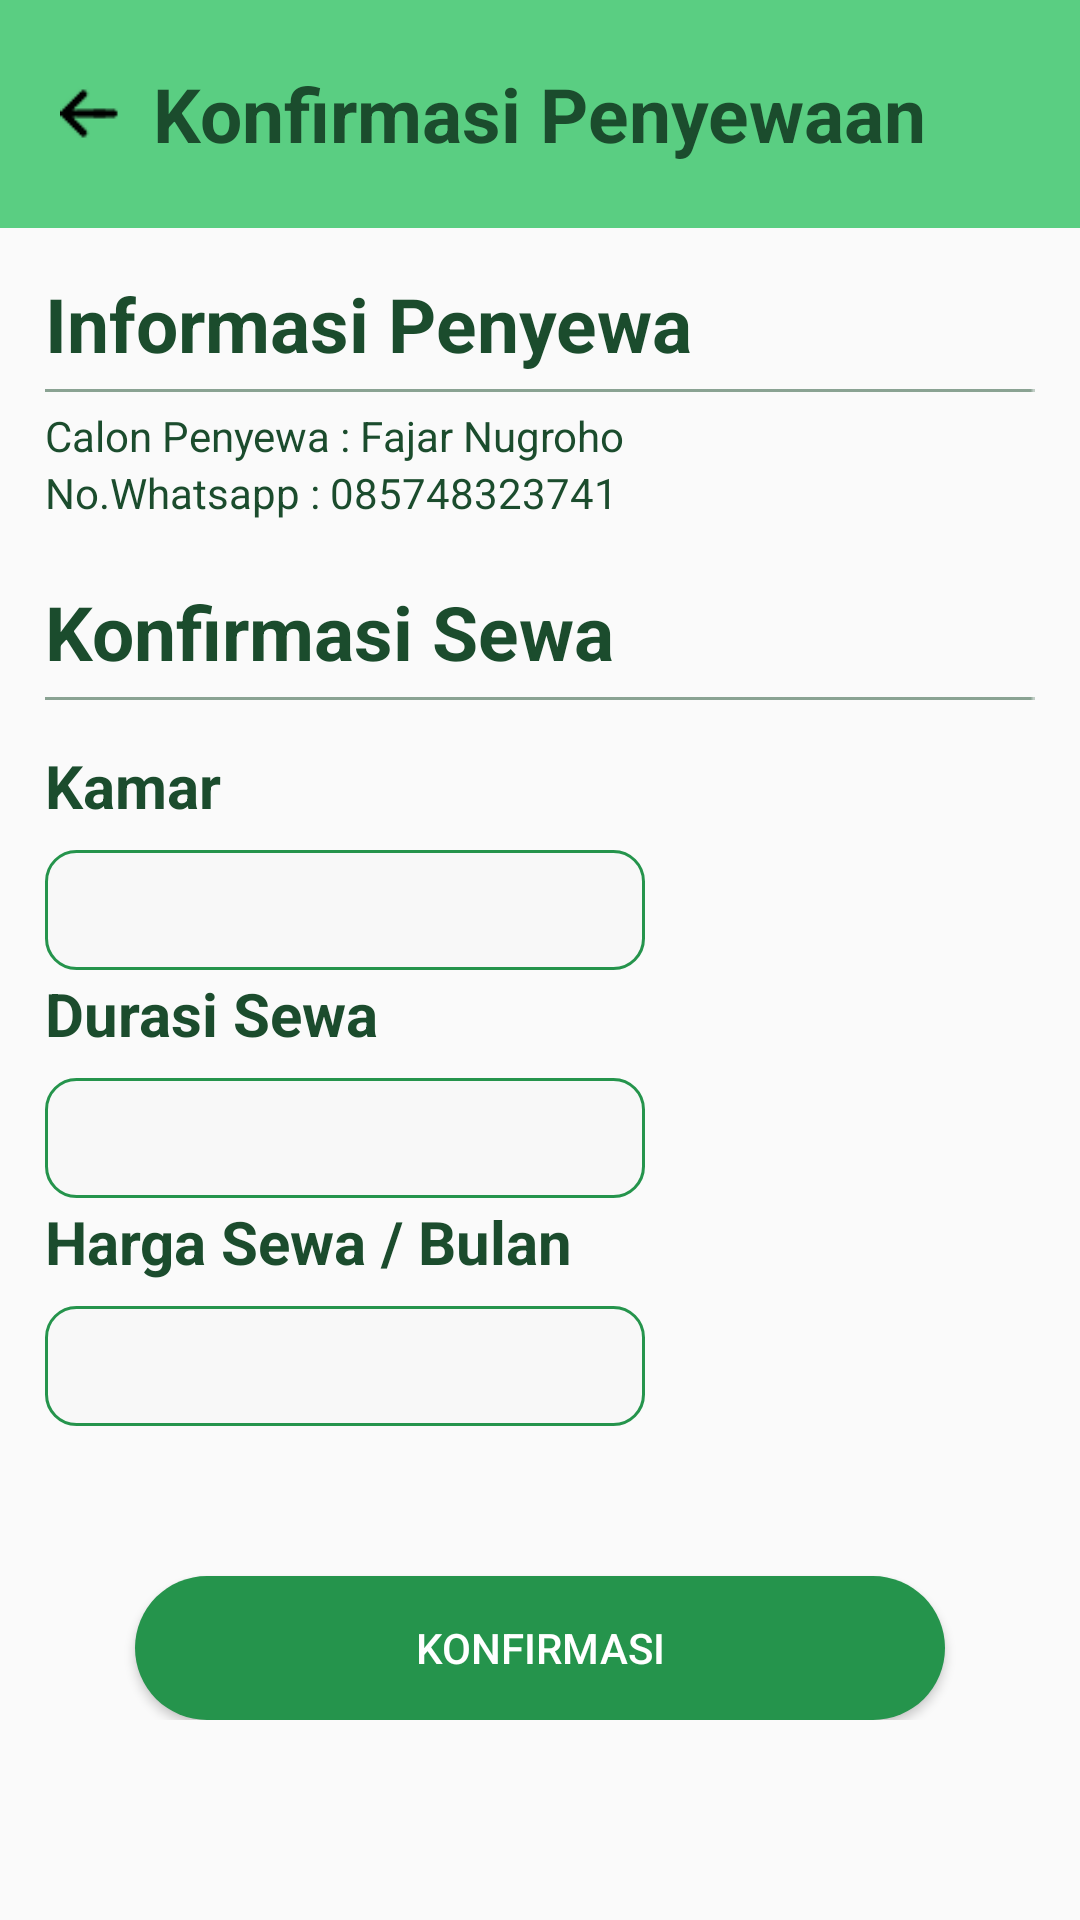

Where icons sit on this 1080w x 1920h app screen, as (left=x1, top=y1, right=x2, bottom=y2):
back: (left=60, top=89, right=118, bottom=138)
